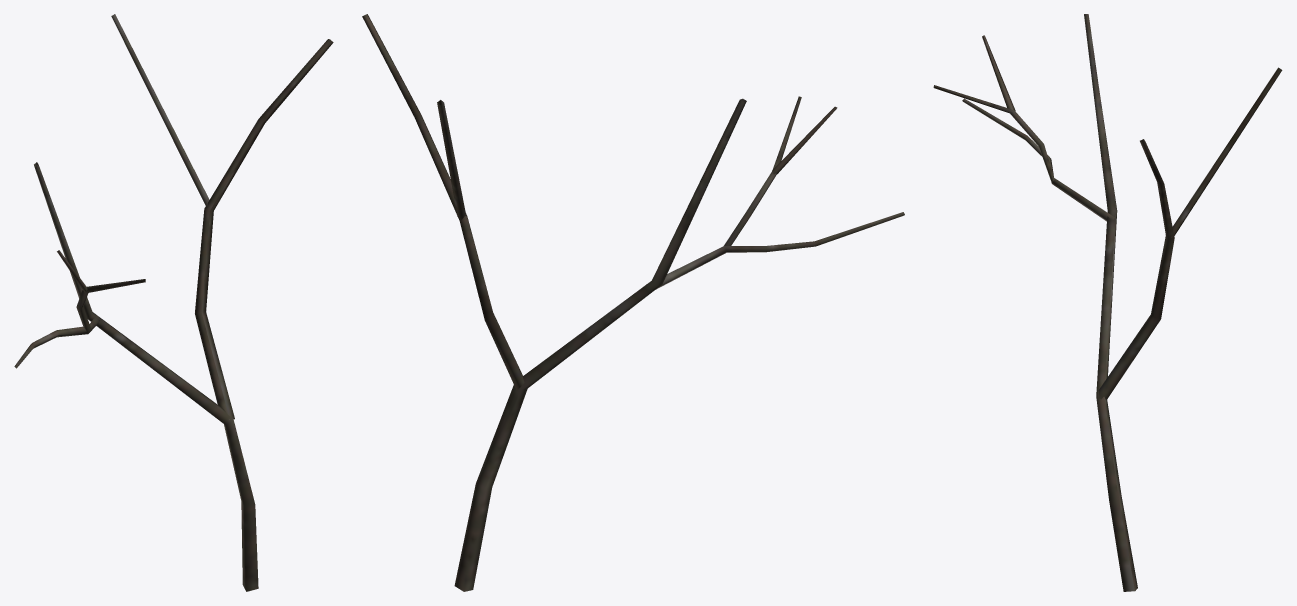
The model's file is Bush3-2.fbx.
3 renders of one model, left to right at view 1: azimuth 30°, elevation 25°; view 2: azimuth 150°, elevation 25°; view 3: azimuth 270°, elevation 25°, orthographic. The views are drawn at different scales.
Visible parts, largest first — view 1: Bush3-2_LOD0; view 2: Bush3-2_LOD0; view 3: Bush3-2_LOD0.
Part boxes in pixels (bbox=[...]): Bush3-2_LOD0: bbox=[14, 14, 333, 591]; Bush3-2_LOD0: bbox=[362, 14, 904, 591]; Bush3-2_LOD0: bbox=[933, 14, 1282, 591].
Size of what is drawn, in the model's own units: 0.7675 by 0.5984 by 0.9422.
